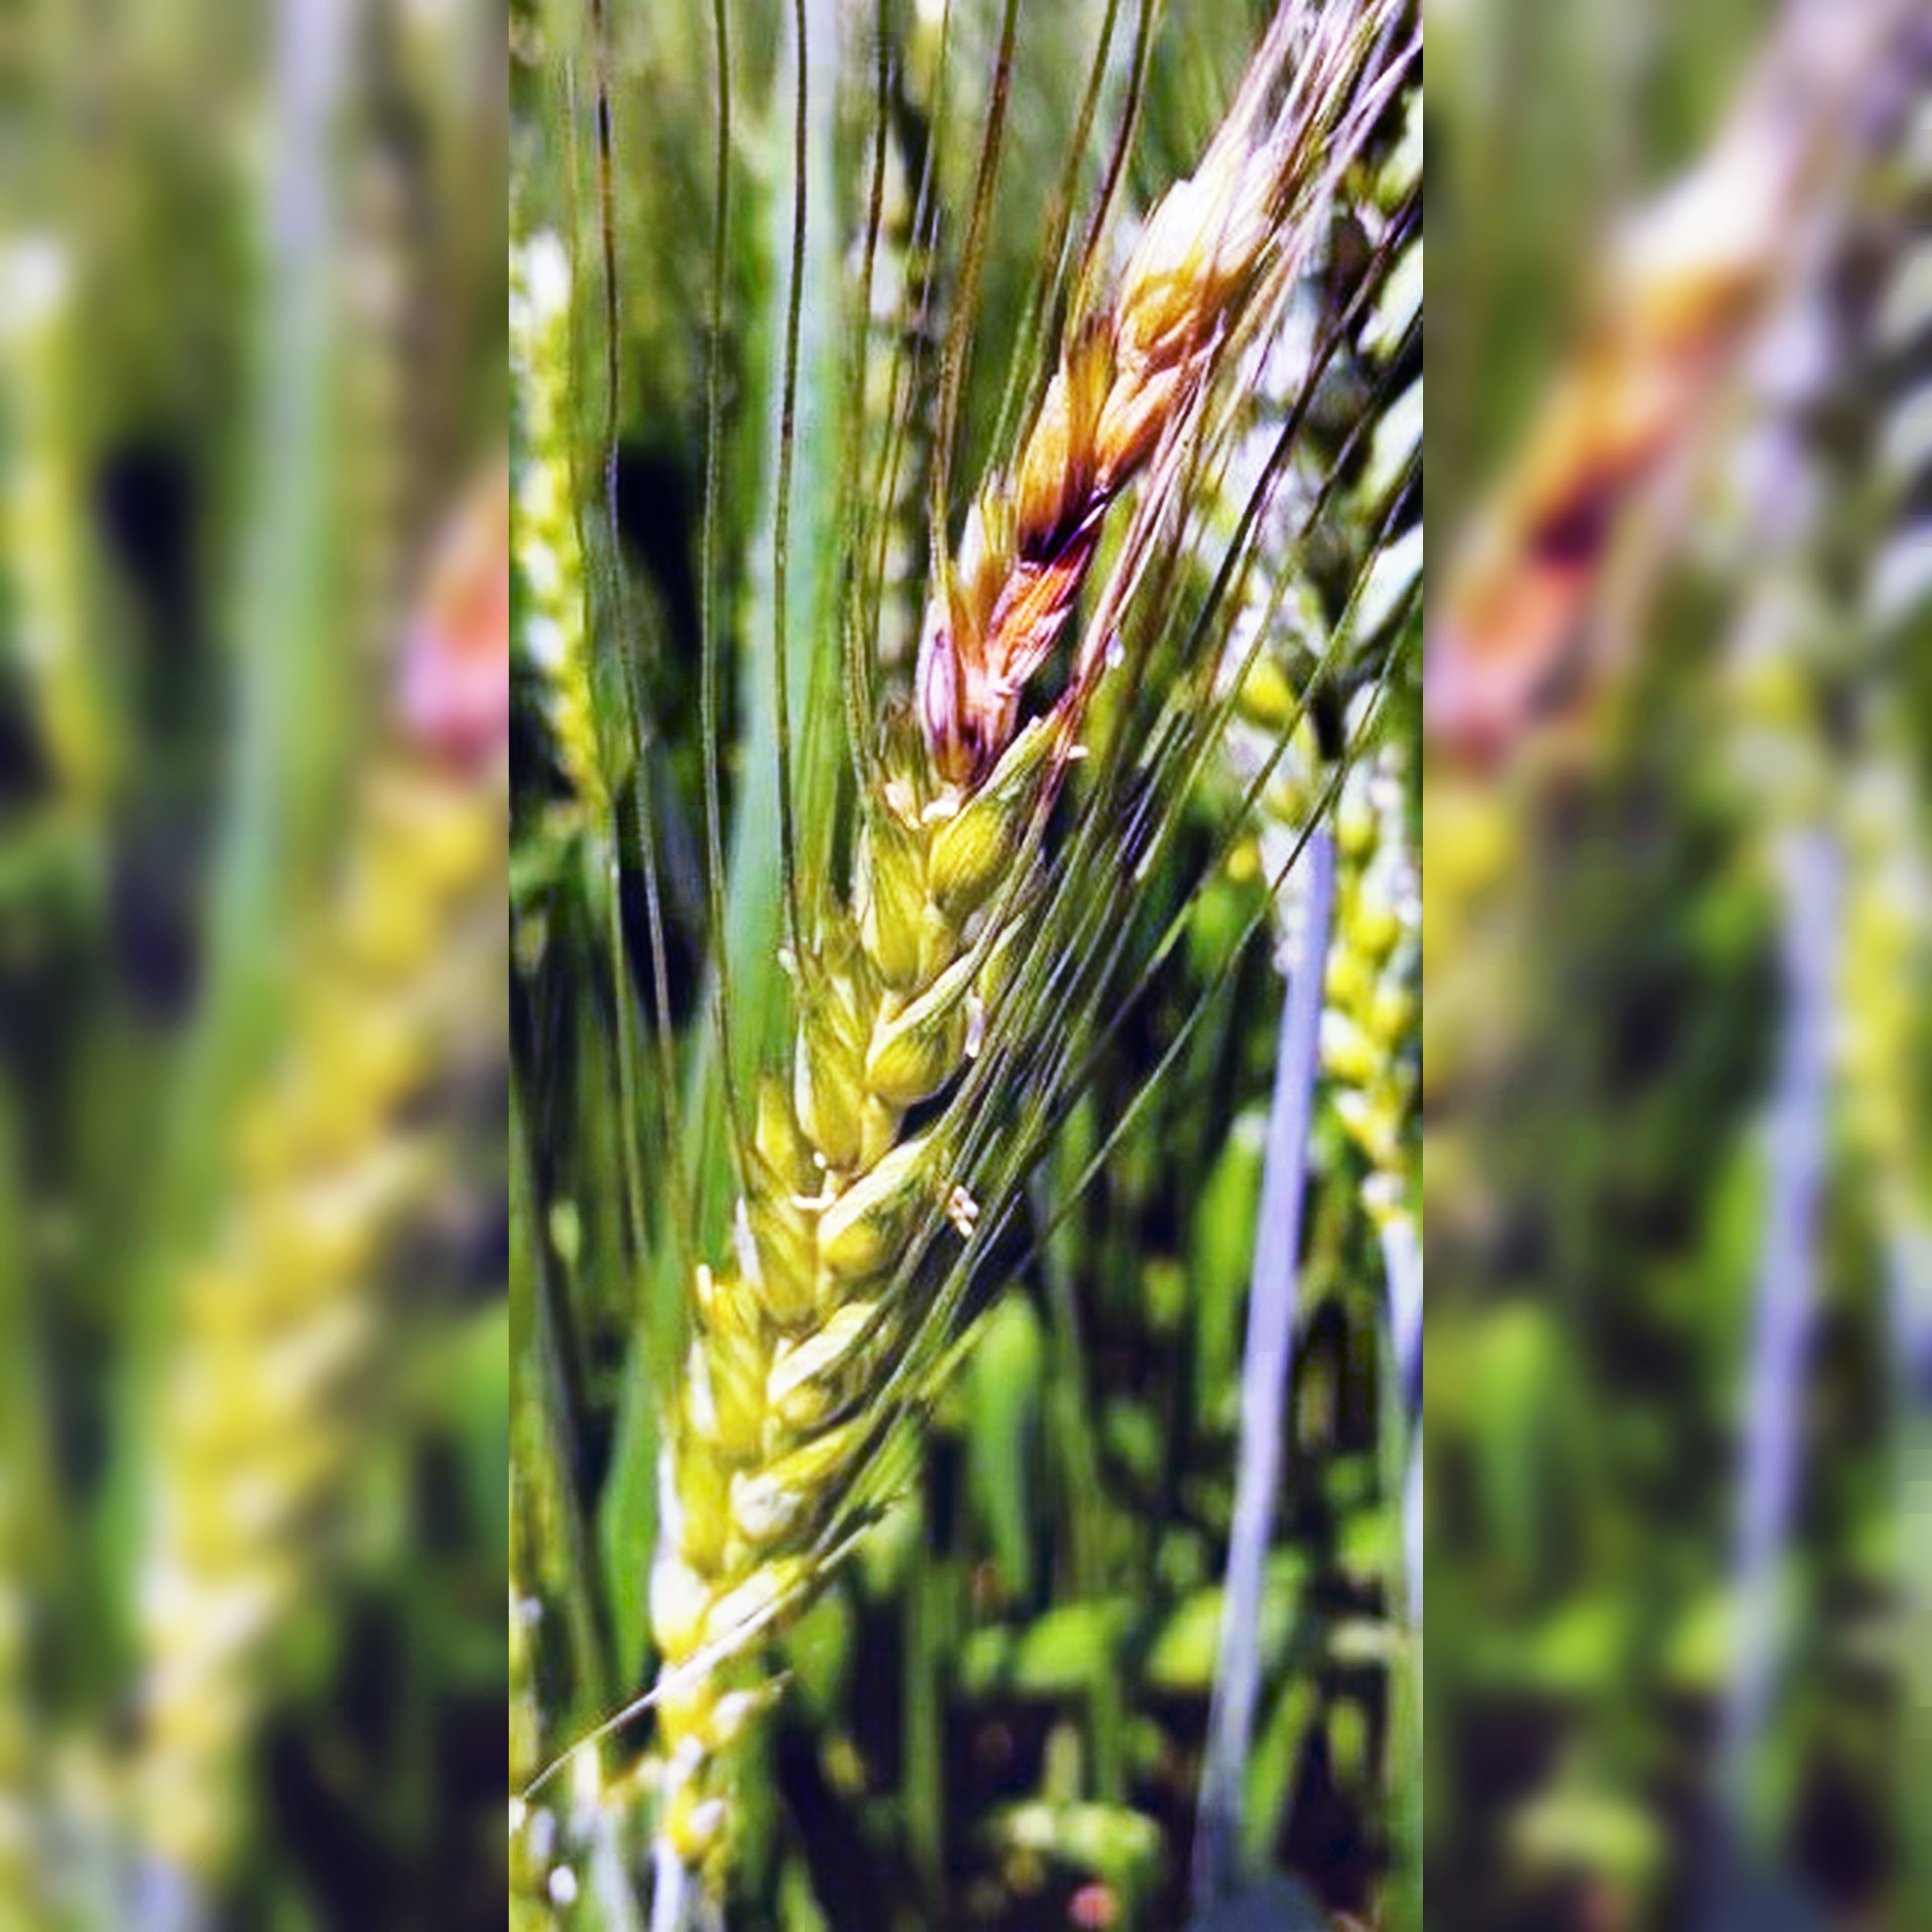Wheat scab: (667, 150, 1277, 1688)
